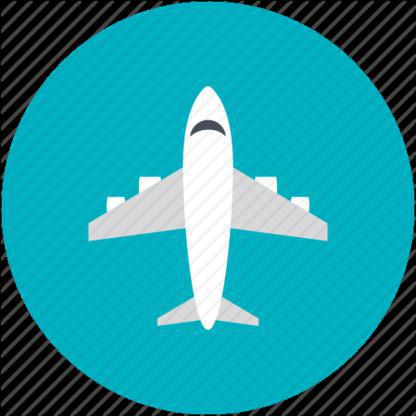CIV_Plane: (78, 79, 330, 333)
